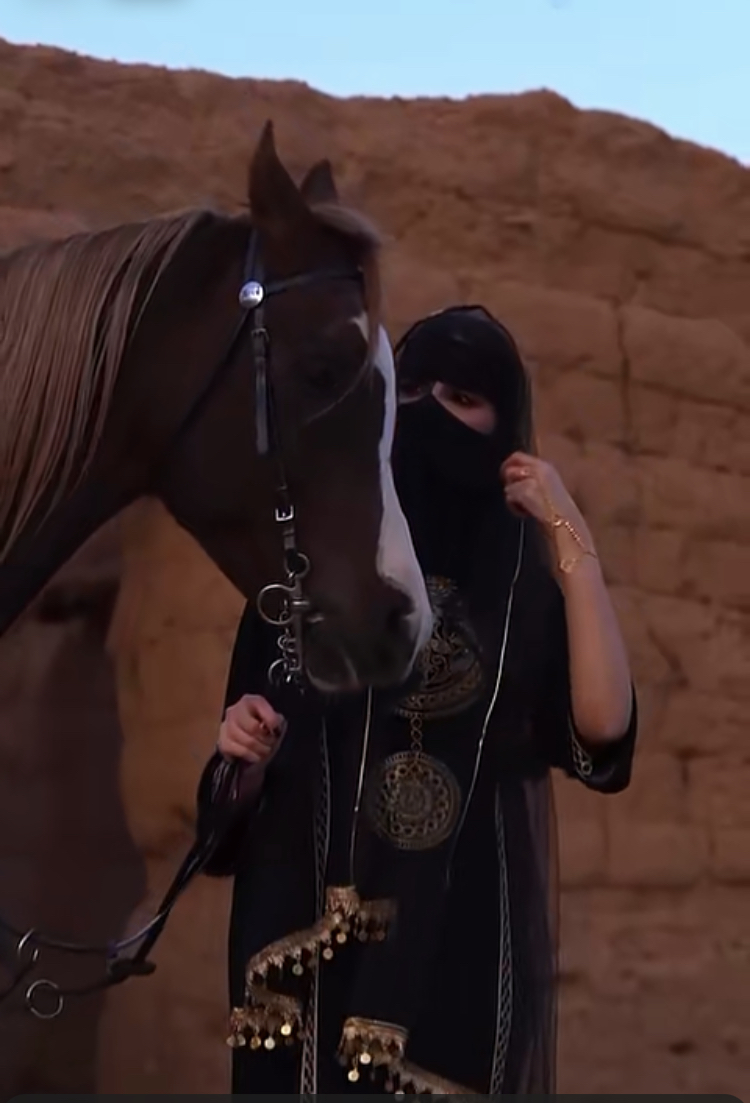Saudi_Founding_Day: (192, 296, 644, 1103)
